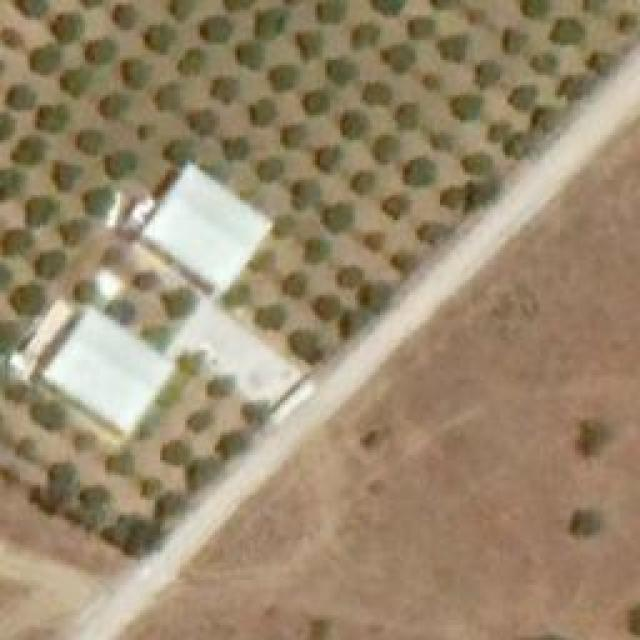Tree: (102, 513, 161, 555), (68, 487, 113, 525), (25, 195, 58, 228), (10, 137, 48, 165), (30, 43, 60, 76), (53, 160, 86, 190), (13, 283, 46, 313), (188, 460, 221, 490), (160, 288, 193, 318), (445, 183, 488, 206), (35, 102, 70, 130), (0, 230, 35, 258), (85, 185, 113, 218), (33, 402, 66, 430), (573, 510, 606, 538), (60, 65, 90, 95), (122, 60, 150, 90), (53, 15, 83, 43), (158, 493, 191, 518), (380, 45, 413, 70), (583, 418, 608, 451), (0, 168, 25, 198), (78, 127, 103, 155), (60, 218, 88, 243), (35, 250, 63, 275), (192, 108, 220, 133), (293, 332, 318, 360), (405, 158, 433, 183), (350, 23, 378, 48), (257, 10, 285, 35), (215, 435, 245, 458), (438, 38, 468, 61), (200, 18, 230, 41), (85, 40, 115, 63), (553, 18, 586, 38), (48, 465, 71, 493), (107, 153, 135, 176), (257, 305, 285, 328), (452, 95, 480, 118), (475, 62, 498, 90), (145, 28, 173, 51), (560, 77, 595, 95), (8, 83, 33, 108), (98, 93, 123, 118), (293, 180, 318, 205), (343, 313, 368, 338), (508, 85, 533, 110), (105, 300, 135, 320), (317, 0, 344, 22), (373, 0, 412, 15), (240, 403, 265, 426), (258, 158, 283, 181), (340, 113, 365, 136), (508, 133, 531, 158), (328, 60, 353, 83), (298, 33, 321, 58), (273, 65, 296, 90), (503, 28, 526, 53), (235, 45, 260, 68), (115, 3, 138, 28), (180, 50, 208, 70), (18, 0, 48, 18), (15, 438, 38, 461), (158, 85, 181, 108), (253, 100, 276, 123), (308, 238, 331, 261), (315, 298, 338, 321), (375, 138, 398, 161), (420, 70, 444, 92), (105, 455, 133, 473), (140, 327, 168, 345), (520, 0, 548, 18), (185, 410, 210, 430), (205, 378, 230, 398), (325, 208, 350, 228), (365, 83, 390, 103), (168, 0, 193, 20), (73, 433, 96, 453), (213, 80, 236, 100), (280, 125, 303, 145), (305, 93, 328, 113), (223, 138, 246, 158), (318, 148, 338, 171), (365, 288, 385, 311), (228, 283, 251, 303), (395, 105, 415, 128), (410, 18, 433, 38), (533, 53, 556, 73), (283, 275, 308, 293), (0, 112, 15, 140), (160, 442, 183, 460), (340, 267, 363, 285), (488, 122, 511, 140), (585, 52, 608, 70), (168, 140, 188, 160), (533, 108, 553, 128), (0, 325, 15, 350), (418, 225, 443, 240), (463, 155, 488, 170), (0, 27, 22, 44), (72, 280, 90, 300), (135, 272, 155, 290), (275, 217, 295, 235), (385, 197, 405, 215), (5, 385, 28, 400), (352, 175, 370, 193), (620, 12, 638, 30), (468, 8, 488, 23), (0, 465, 15, 483), (253, 252, 268, 270), (432, 135, 450, 150), (365, 235, 380, 250)
